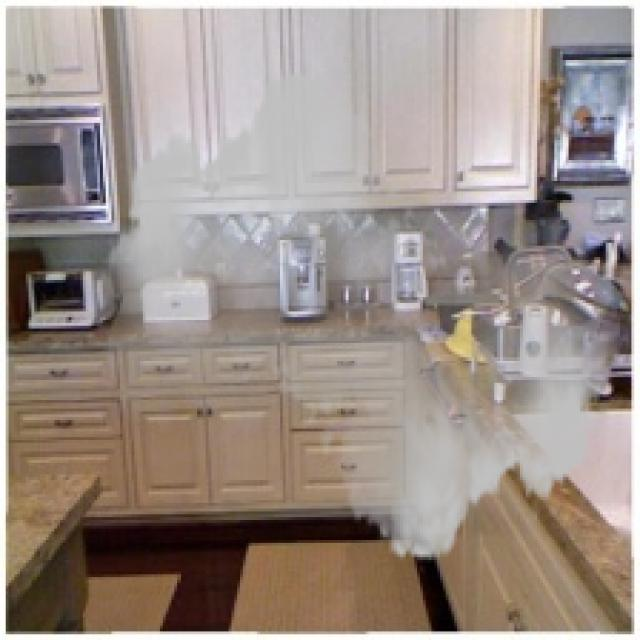smoke: (100, 54, 620, 577)
